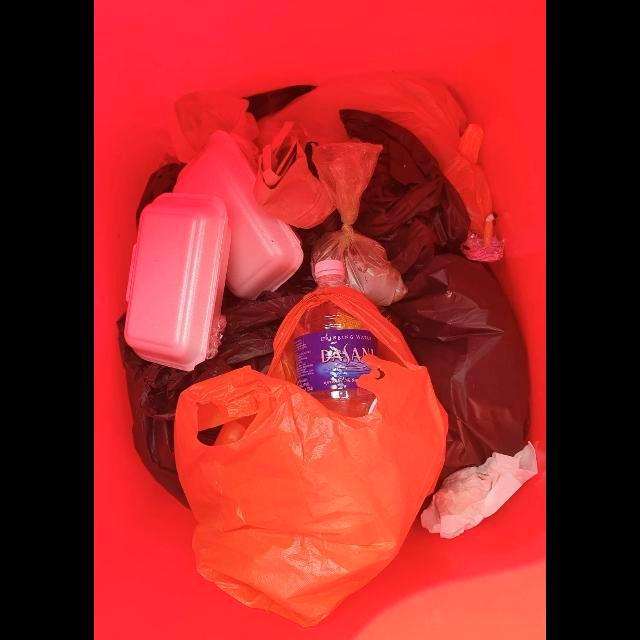paper: (421, 441, 538, 540)
plastic_bag: (174, 289, 449, 629), (311, 140, 408, 307)
plastic_bottle: (294, 301, 378, 418)
